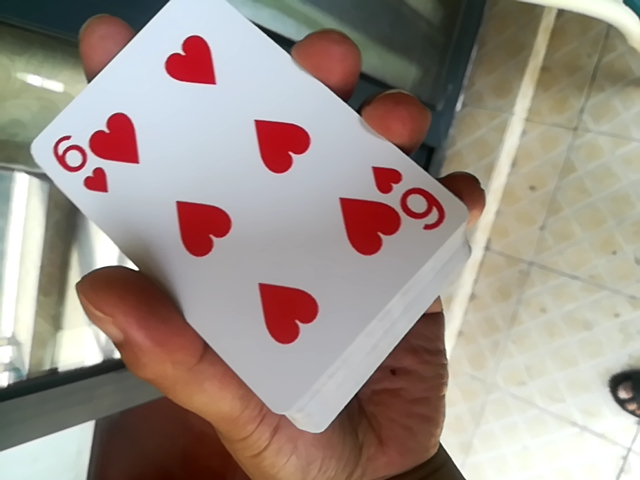hx 6: (31, 6, 444, 450)
